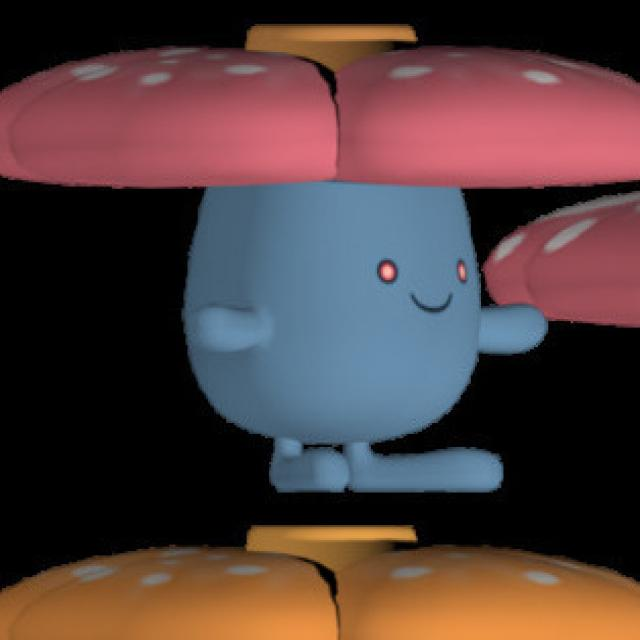Vileplume: (122, 21, 559, 492)
